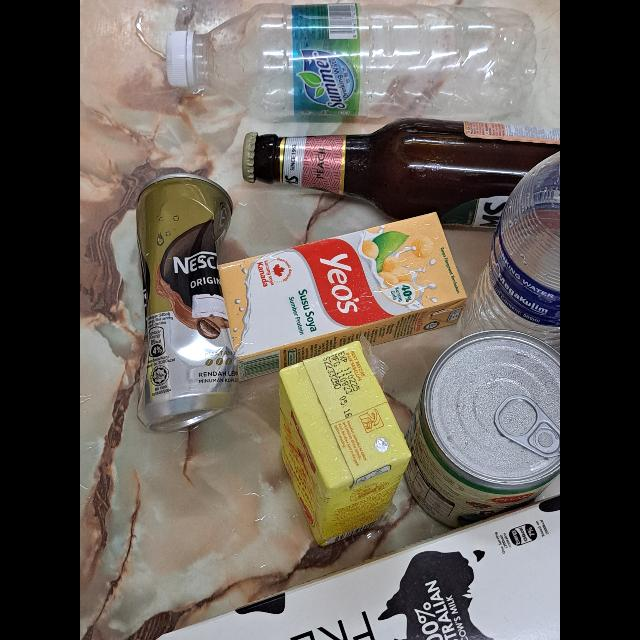aba de lata: (494, 394, 560, 461)
caixinha: (160, 492, 560, 640), (209, 212, 467, 380), (274, 340, 410, 548)
garrafa de vidro: (242, 116, 560, 230)
garrafa plástica: (199, 0, 536, 124), (464, 152, 560, 352)
lata: (406, 328, 560, 536), (135, 172, 233, 434)
tampa plástica: (167, 32, 196, 88)
